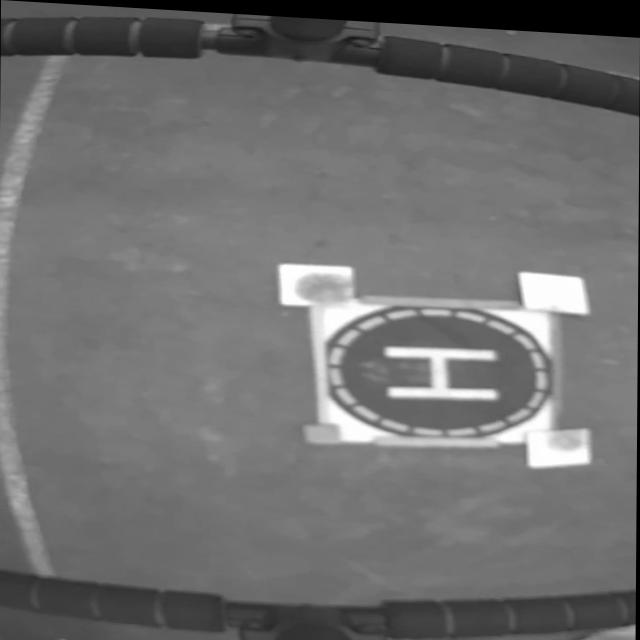Helipad: (383, 341, 501, 394)
